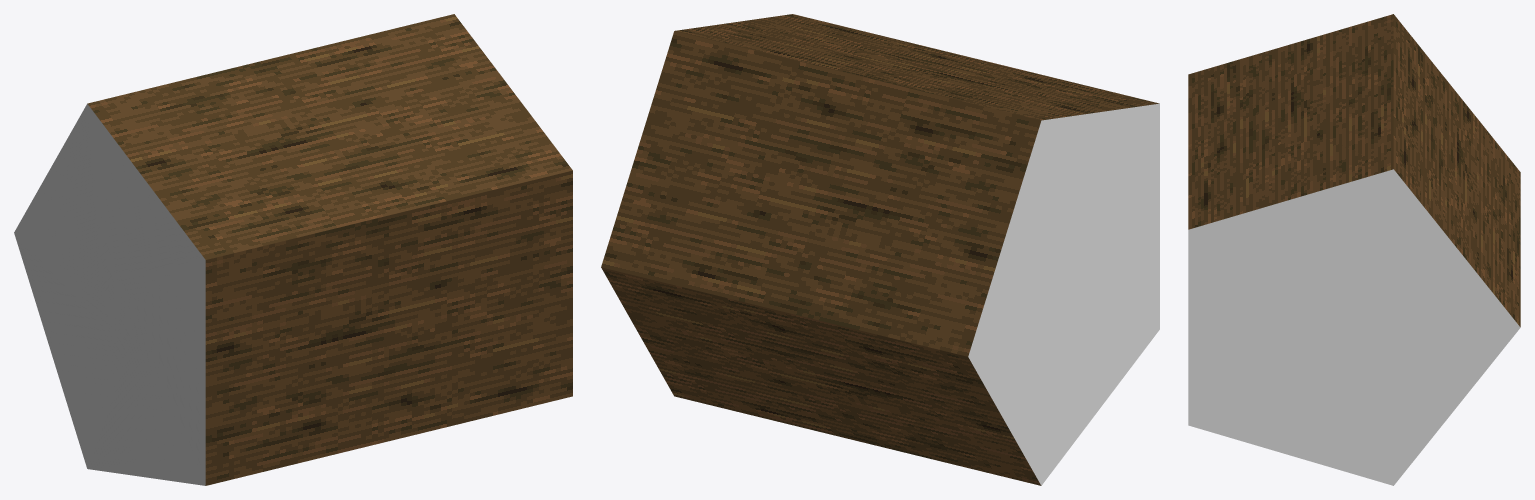
The model's file is logProjectile.glb.
3 views of the same model, side by side, from view 1: azimuth 30°, elevation 25°; view 2: azimuth 150°, elevation 25°; view 3: azimuth 270°, elevation 25° (orthographic). The views are drawn at different scales.
Visible parts, largest first — view 1: Cylinder; view 2: Cylinder; view 3: Cylinder.
Boxes of the visible parts, left/top/right/bottom form: Cylinder: left=14, top=14, right=572, bottom=485; Cylinder: left=601, top=14, right=1159, bottom=485; Cylinder: left=1188, top=14, right=1520, bottom=485.
Bounding box in the file's own units: 2 × 1.9 × 1.81.
2 materials, 1 textured.
